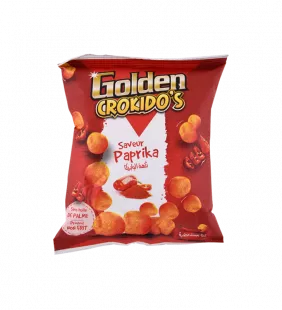CROKIDOS: (44, 44, 236, 260)
